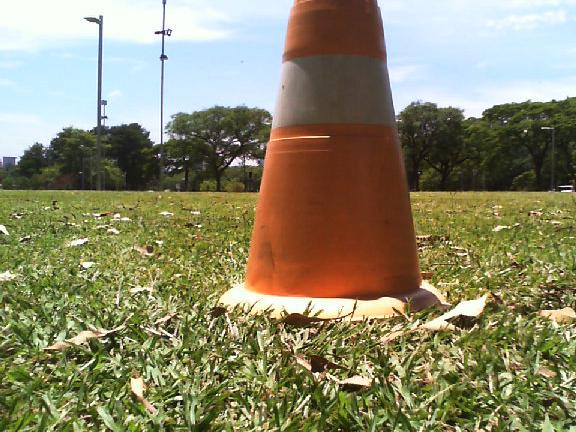0 cone: (218, 0, 444, 324)
